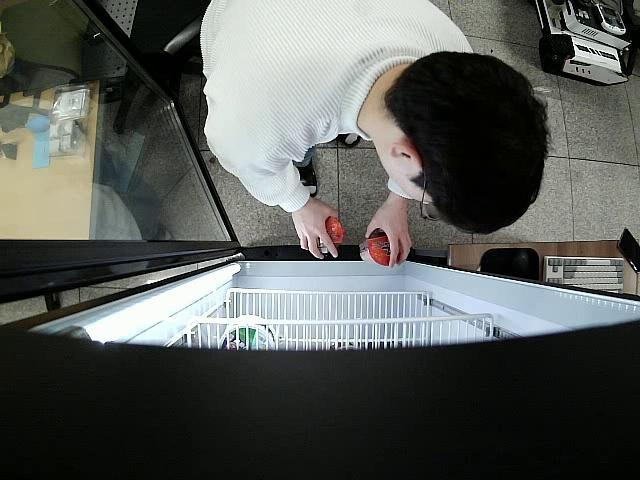02_shinRamen_S: (361, 229, 402, 266), (315, 219, 344, 254)
